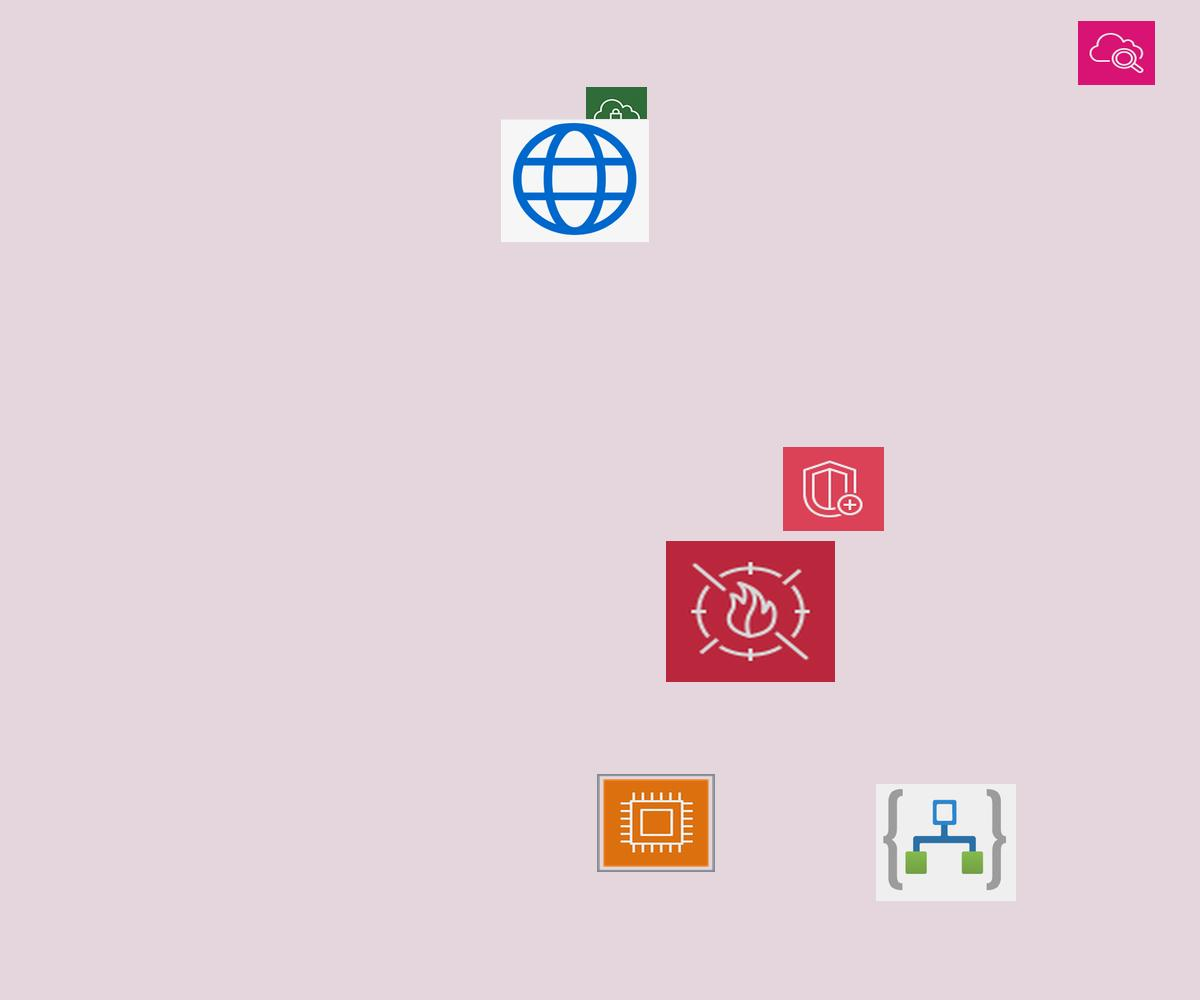AWS-Category_Compute: (597, 774, 715, 872)
AWS-CloudWatch: (1078, 21, 1155, 85)
AWS-Private_vpc: (586, 87, 647, 138)
AWS-Shield: (783, 447, 884, 531)
AWS-WAF: (666, 541, 835, 682)
Azure_http: (501, 119, 649, 242)
Azure_integration-204-Logic-Apps: (876, 784, 1016, 901)
